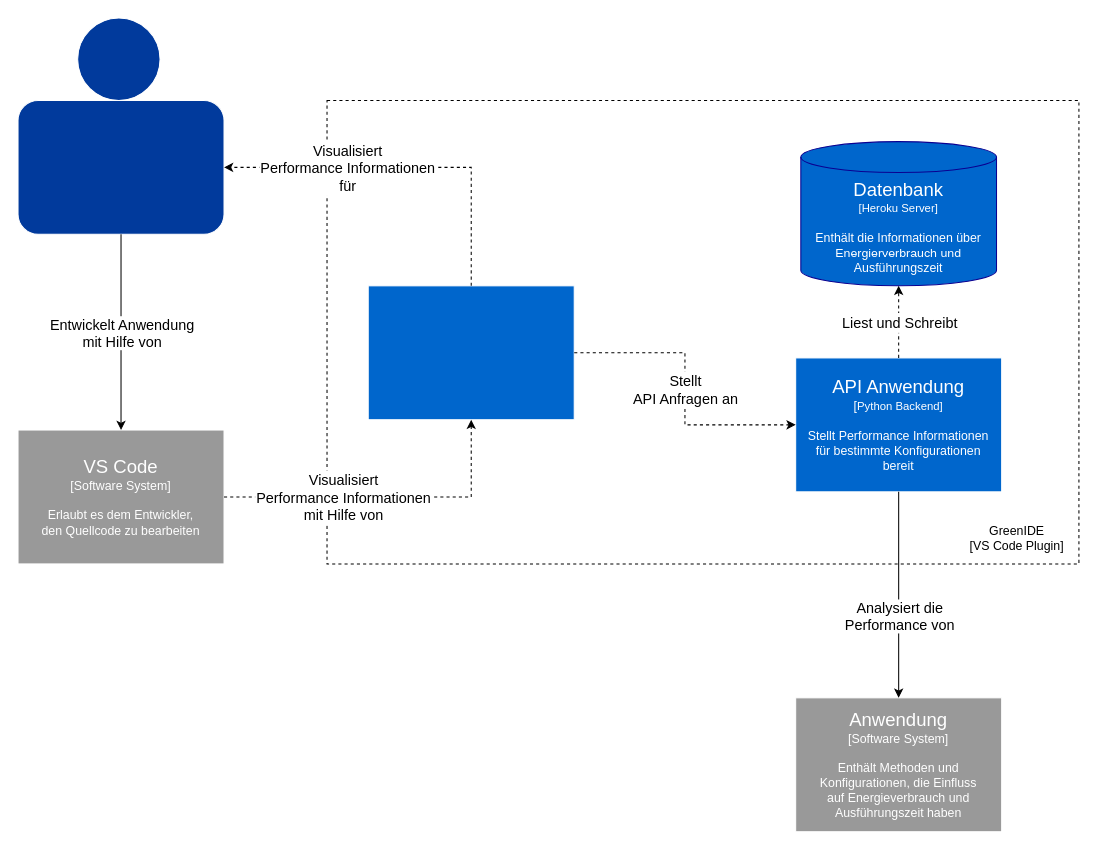
This 1097x850 diagram has some shape labels left out. The shapes that lost their labels are listed below. From the top down, each one's centre as x and y in pixels, then its label:
[120,166]: Entwickler [Person] Software-Entwickler mit Zugriff auf den Quellcode
[470,352]: Frontend [TypeScript/JavaScript] Visualisert die Perfomance Informationen
